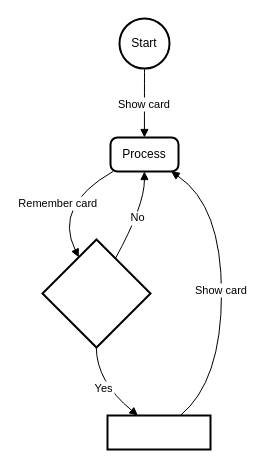
This 265x467 diagram has some shape labels left out. The centre of each missing label's shape, as x and y in pixels:
"Correct?" goes at [96,293].
"Next session" goes at [158,432].
